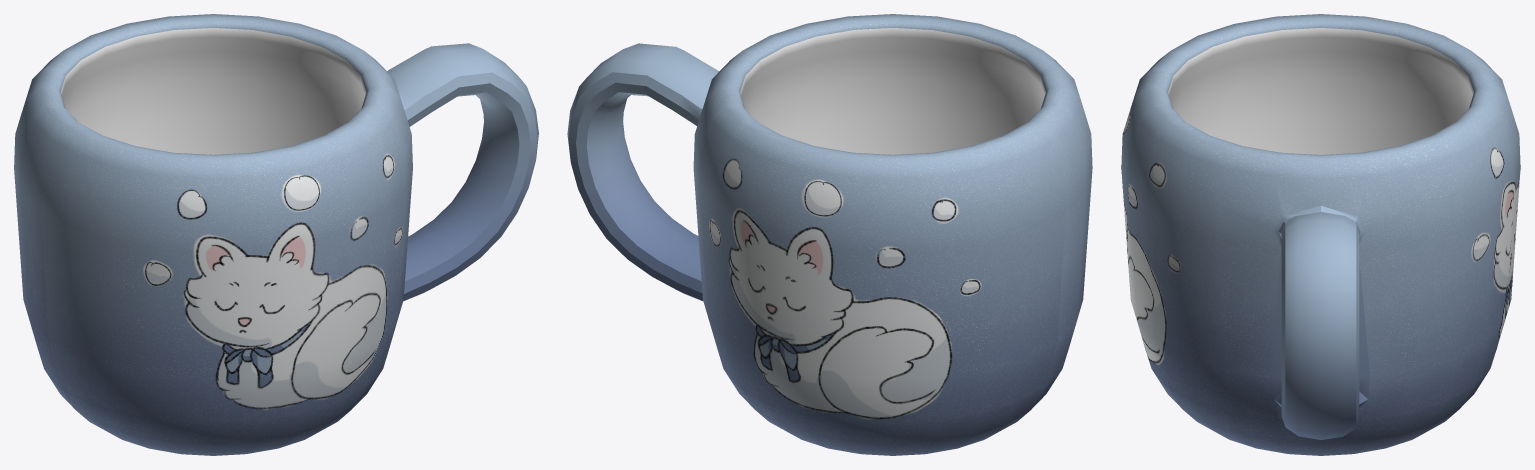
File: cat_mug.glb
3 renders of one model, left to right at view 1: azimuth 30°, elevation 25°; view 2: azimuth 150°, elevation 25°; view 3: azimuth 270°, elevation 25°, orthographic.
Parts seen in each view (by area): view 1: revolvedSurface1; view 2: revolvedSurface1; view 3: revolvedSurface1.
Boxes of the visible parts, x1,y1,x2,y2 form: revolvedSurface1: (14, 14, 538, 455); revolvedSurface1: (567, 14, 1092, 455); revolvedSurface1: (1121, 14, 1520, 455).
Bounding box in the file's own units: 15.11 × 9.53 × 10.66.
7 materials, 4 textured.
